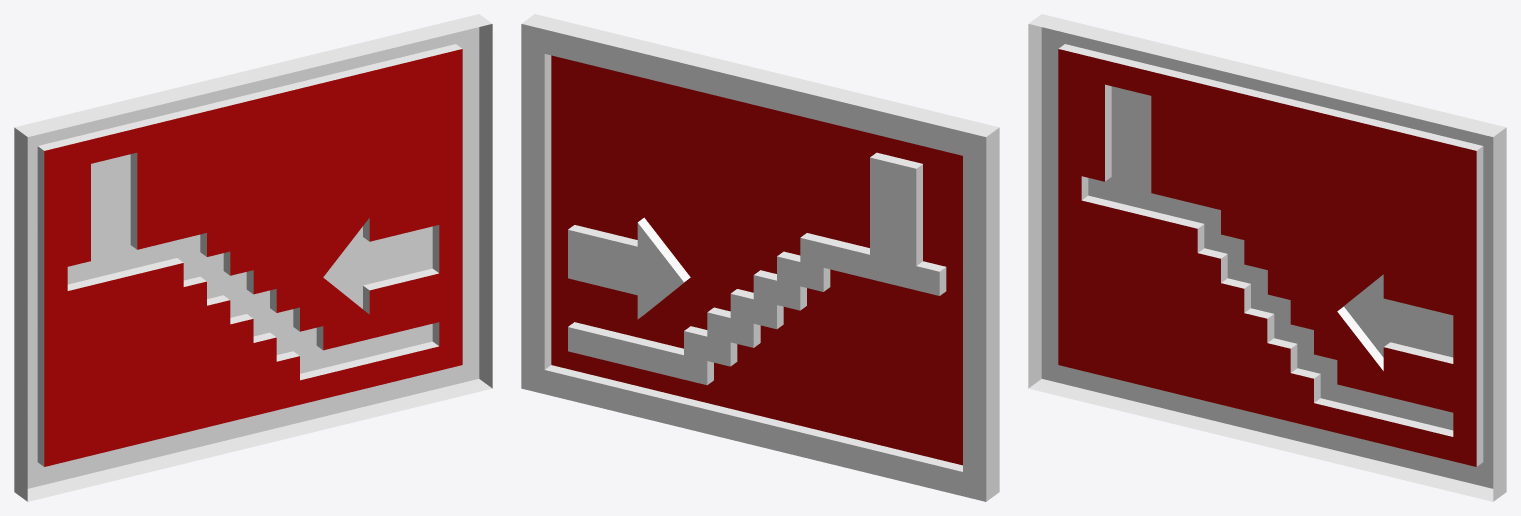
The model's file is exitSign.fbx.
The picture shows the model from 3 angles, left to right: view 1: azimuth 30°, elevation 25°; view 2: azimuth 150°, elevation 25°; view 3: azimuth 330°, elevation 25°; orthographic projection.
Parts seen in each view (by area): view 1: Model; view 2: Model; view 3: Model.
Part boxes in pixels (x1,y1,x2,y2): Model: [14, 14, 492, 501]; Model: [521, 14, 999, 501]; Model: [1028, 14, 1506, 501].
Bounding box in the file's own units: 4 × 3 × 0.2.
